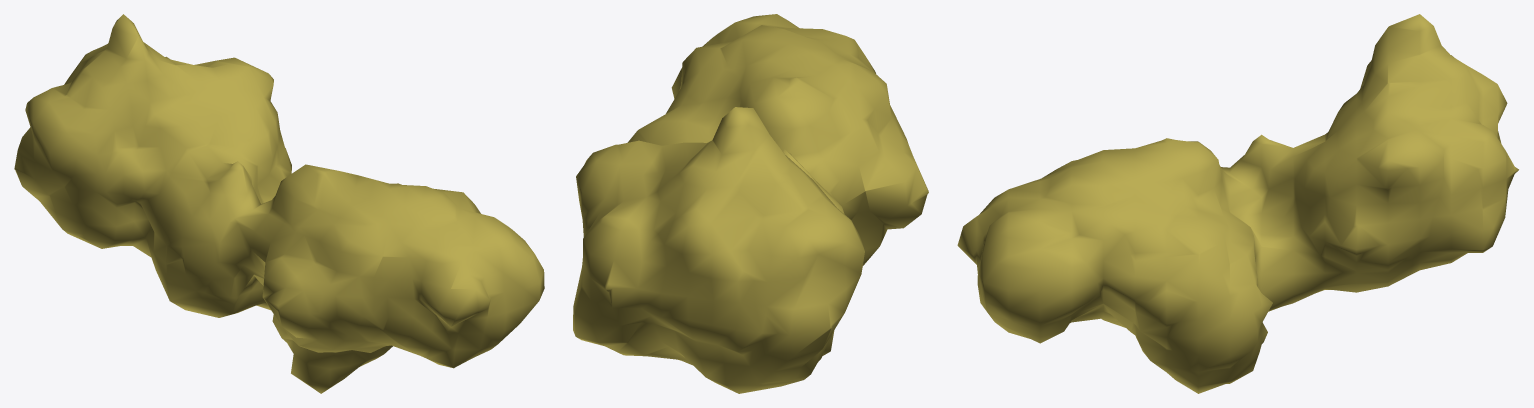
File: monomer1CZA.fbx
3 views of the same model, side by side, from view 1: azimuth 30°, elevation 25°; view 2: azimuth 150°, elevation 25°; view 3: azimuth 270°, elevation 25° (orthographic). The views are drawn at different scales.
Parts seen in each view (by area): view 1: CoarseMS_1CZA; view 2: CoarseMS_1CZA; view 3: CoarseMS_1CZA.
Boxes of the visible parts, <box> form: CoarseMS_1CZA: <box>14,14,544,393</box>; CoarseMS_1CZA: <box>573,14,928,393</box>; CoarseMS_1CZA: <box>957,14,1518,393</box>.
Bounding box in the file's own units: 87.71 × 82.17 × 132.
